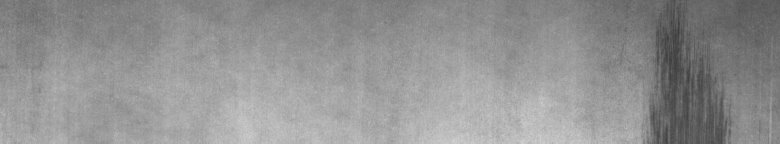ka: (640, 4, 772, 136)
